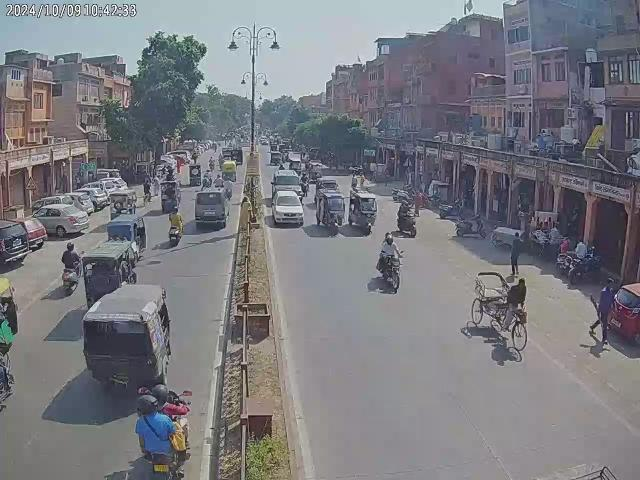auto: (80, 284, 172, 398), (82, 240, 134, 308), (105, 213, 145, 259), (314, 188, 346, 232), (349, 191, 378, 233), (108, 188, 138, 219), (158, 178, 180, 213), (221, 160, 236, 182)
car: (0, 211, 47, 272), (30, 200, 90, 238), (76, 175, 128, 209), (194, 188, 228, 230), (271, 188, 303, 225)
helmet: (136, 395, 158, 414), (153, 382, 170, 402), (386, 233, 394, 245), (66, 243, 75, 250), (172, 205, 178, 213)
motorbike: (568, 252, 600, 282)
motorbike-rider: (130, 390, 191, 480), (376, 230, 404, 290)
person: (594, 280, 616, 352), (508, 232, 522, 276), (574, 237, 590, 262)
rickshow: (472, 270, 530, 350)
scooty: (454, 214, 487, 238), (440, 198, 463, 216)
scooty-rider: (58, 242, 82, 294), (396, 198, 419, 238), (168, 206, 184, 246)
